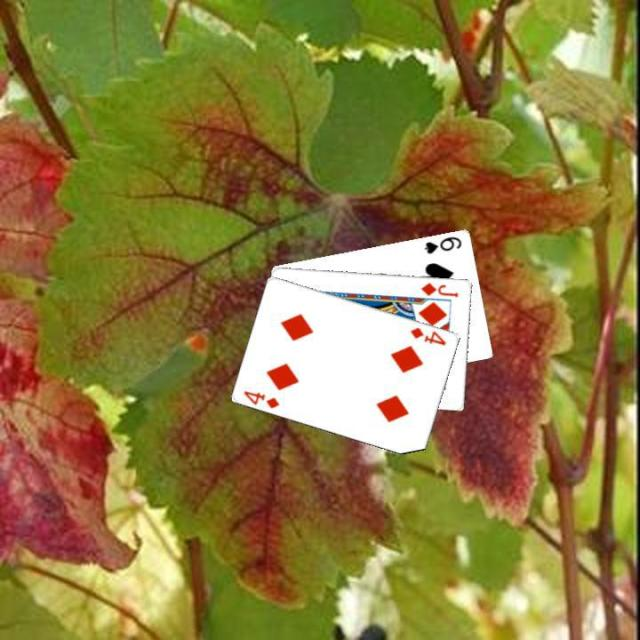4D: (240, 386, 282, 411), (407, 322, 448, 347)
6S: (421, 232, 463, 255)
JD: (417, 278, 459, 299)
